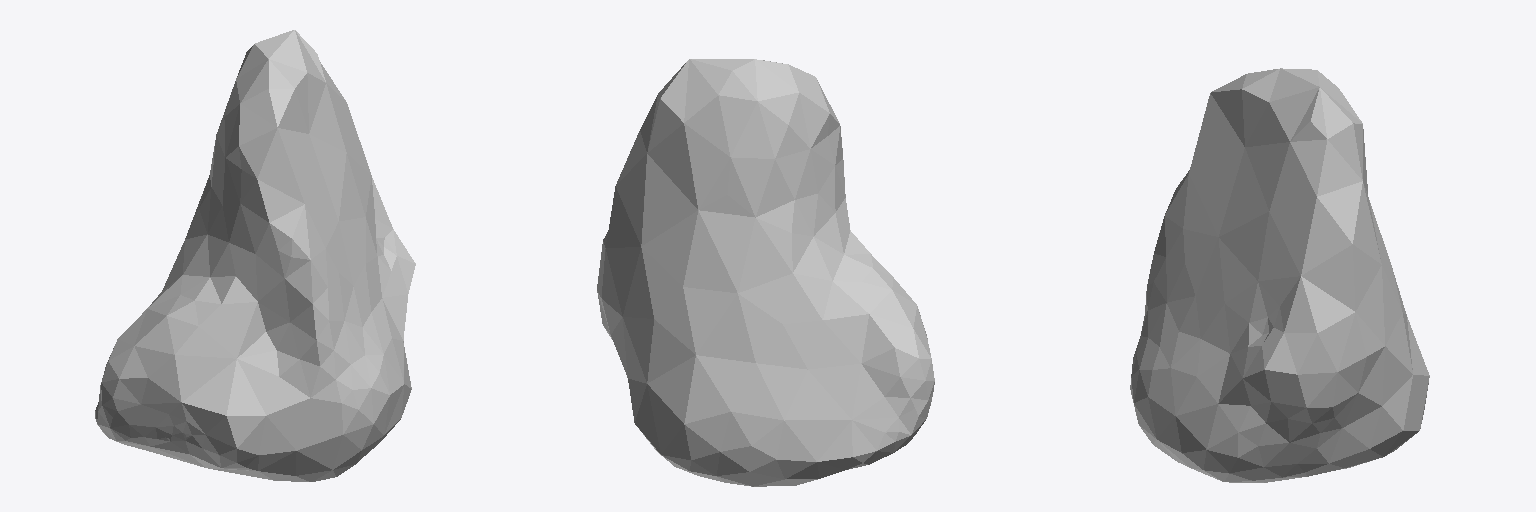
File: Rock2.obj
3 renders of one model, left to right at view 1: azimuth 30°, elevation 25°; view 2: azimuth 150°, elevation 25°; view 3: azimuth 270°, elevation 25°, orthographic.
Bounding box in the file's own units: 4.11 × 4.94 × 3.39.